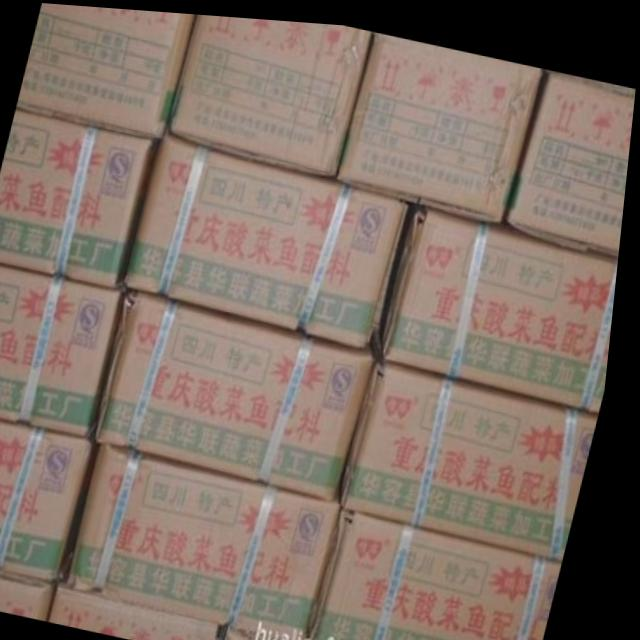box: (132, 132, 422, 349), (104, 290, 383, 494), (78, 442, 351, 640), (348, 354, 606, 555), (386, 201, 623, 404), (340, 28, 543, 222), (321, 505, 573, 640), (166, 11, 373, 175), (0, 111, 164, 289), (18, 2, 195, 140), (0, 263, 133, 440), (510, 63, 636, 249), (0, 419, 104, 584), (61, 582, 236, 640), (0, 569, 69, 618), (236, 620, 309, 640)
